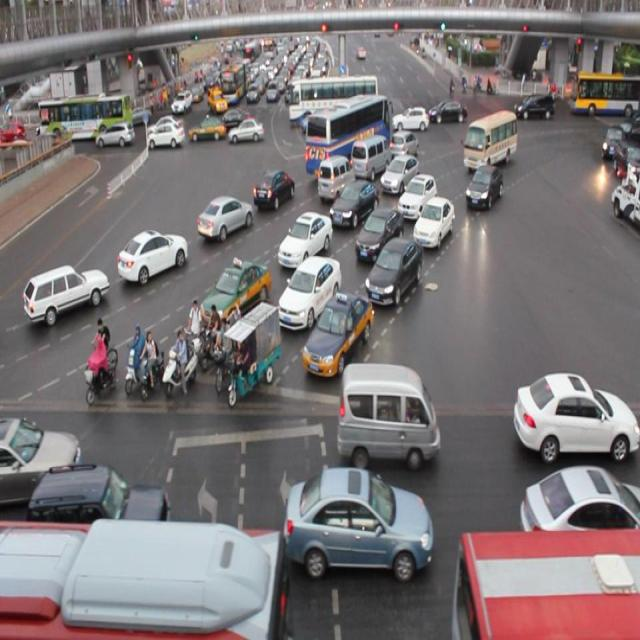car: (283, 469, 434, 581), (512, 370, 640, 466), (518, 460, 640, 547), (27, 462, 168, 536), (0, 410, 80, 500), (298, 296, 372, 378), (199, 254, 272, 335), (24, 259, 109, 322), (276, 251, 342, 329), (362, 230, 424, 306), (117, 225, 187, 282), (277, 210, 332, 268), (197, 193, 253, 242), (352, 207, 402, 261), (328, 177, 379, 225), (412, 195, 455, 246), (254, 168, 298, 208), (381, 148, 420, 190), (464, 167, 502, 209), (399, 172, 438, 211), (390, 126, 418, 162)
truck: (336, 360, 441, 465), (461, 109, 518, 171), (351, 134, 392, 178), (314, 156, 353, 202)
van: (0, 518, 288, 640), (450, 524, 640, 640), (305, 92, 391, 179)
